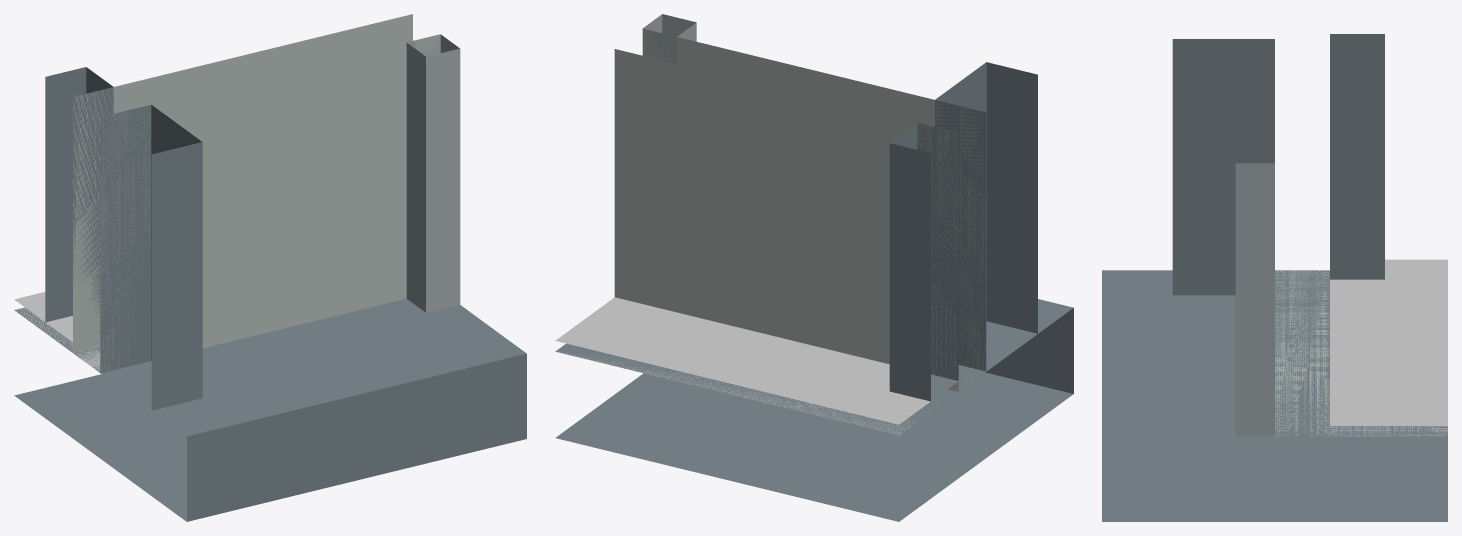
File: cell_46.obj
3 views of the same model, side by side, from view 1: azimuth 30°, elevation 25°; view 2: azimuth 150°, elevation 25°; view 3: azimuth 270°, elevation 25° (orthographic).
Bounding box in the file's own units: 1 × 0.96 × 0.88.
